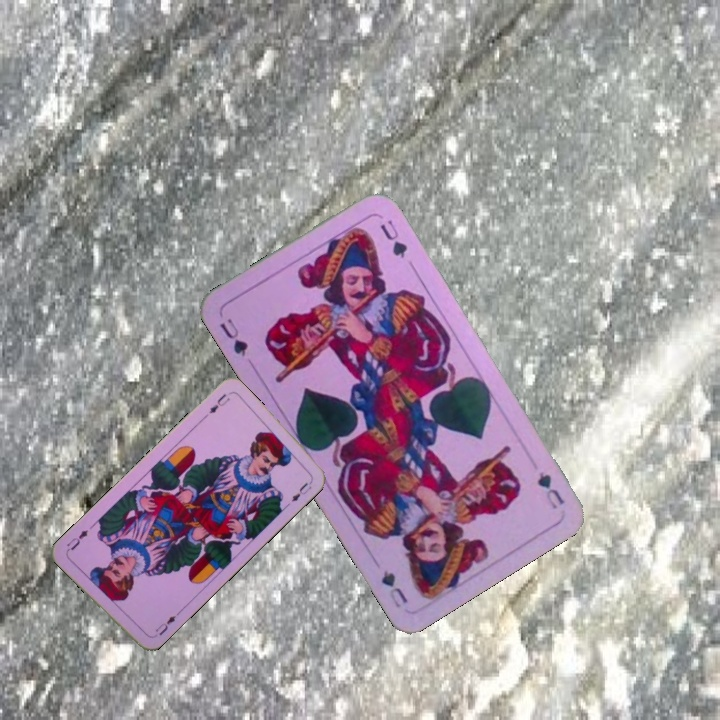EU: (148, 609, 181, 640), (205, 389, 233, 416)
GU: (215, 314, 251, 359), (533, 467, 567, 512)
